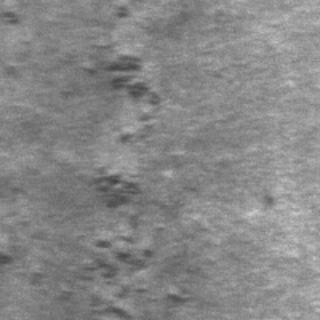rolled pit: (51, 164, 172, 316), (76, 26, 156, 144)
